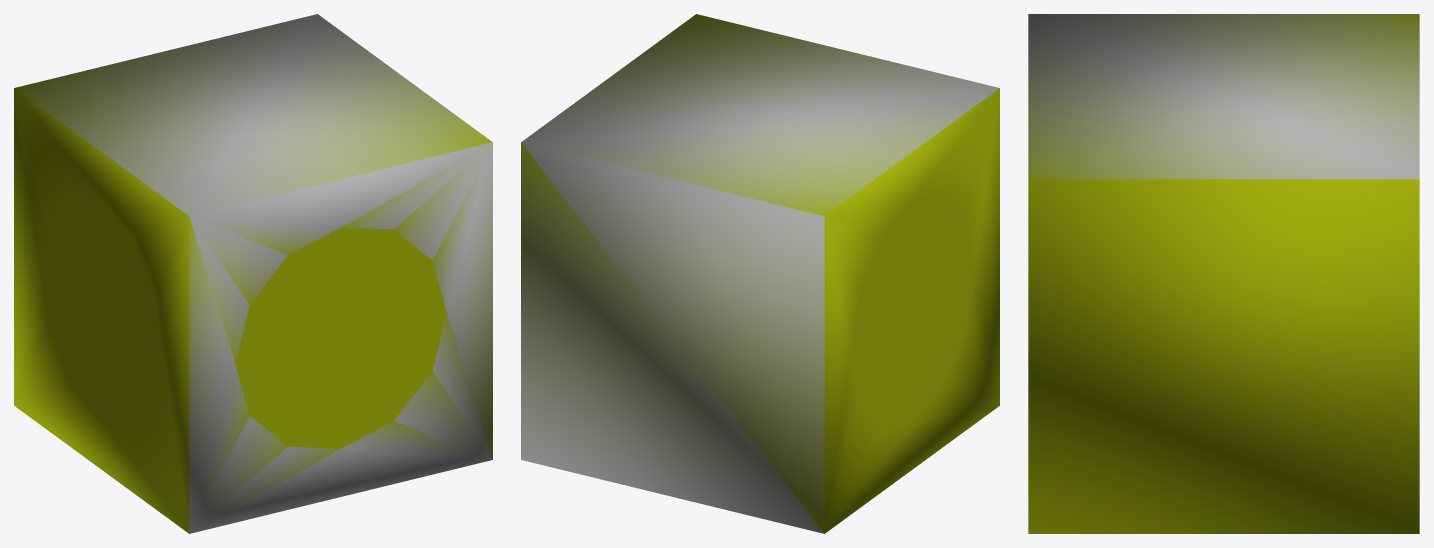
The model's file is Smily.fbx.
The picture shows the model from 3 angles, left to right: view 1: azimuth 30°, elevation 25°; view 2: azimuth 150°, elevation 25°; view 3: azimuth 270°, elevation 25°; orthographic projection. The views are drawn at different scales.
Visible parts, largest first — view 1: happyCube; view 2: happyCube; view 3: happyCube.
Boxes of the visible parts, bbox=[...] form: happyCube: bbox=[14, 14, 492, 533]; happyCube: bbox=[521, 14, 999, 533]; happyCube: bbox=[1028, 14, 1419, 533].
Size of the model in its own units: 10 by 10 by 10.
